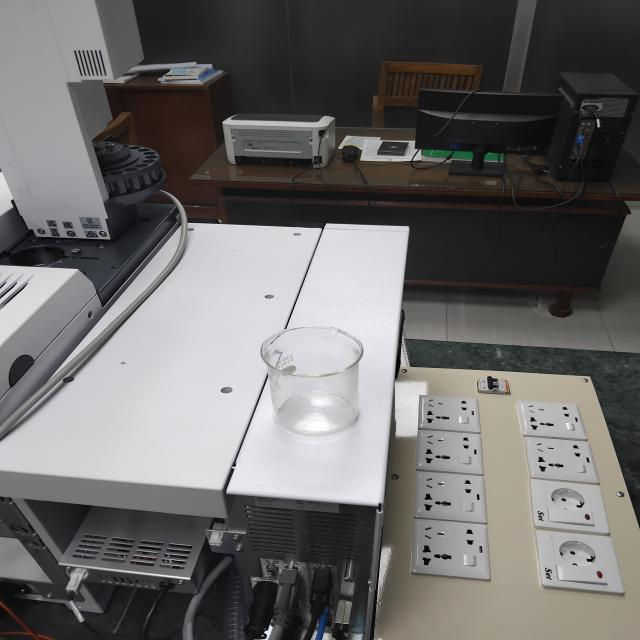Beaker: (248, 306, 392, 458)
